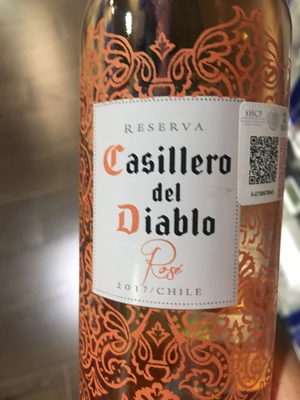casillero del diablo rose: (79, 5, 287, 400)
